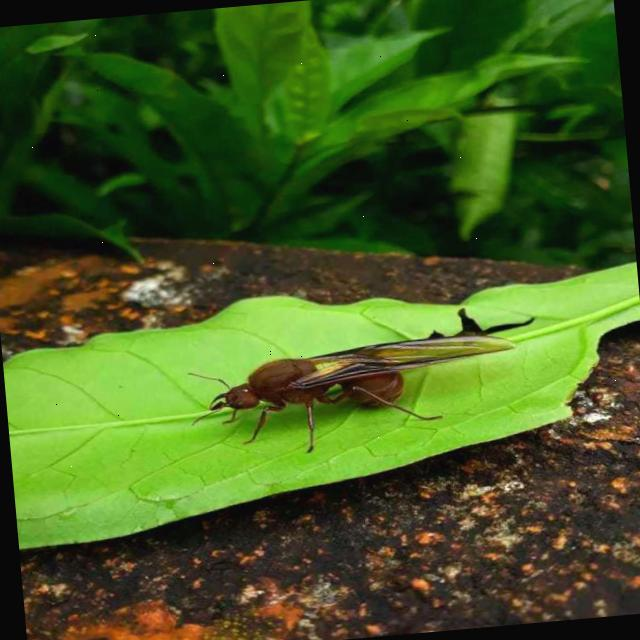Alive-Female-Alate: (185, 329, 525, 464)
